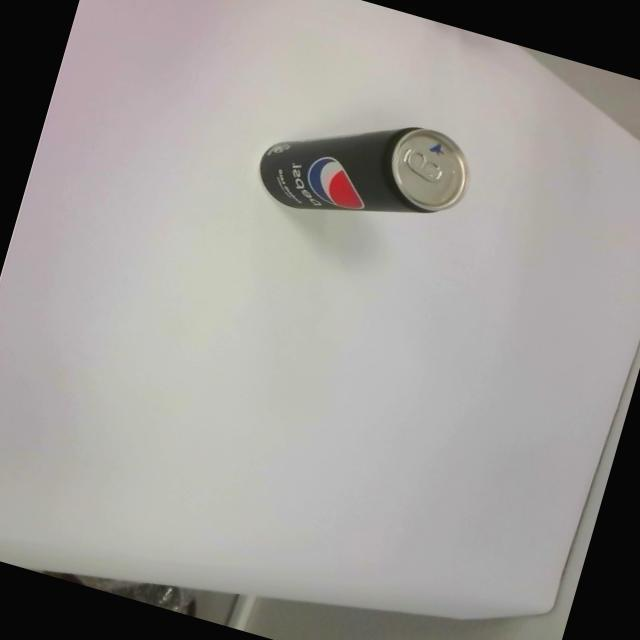debris: (249, 85, 480, 252)
